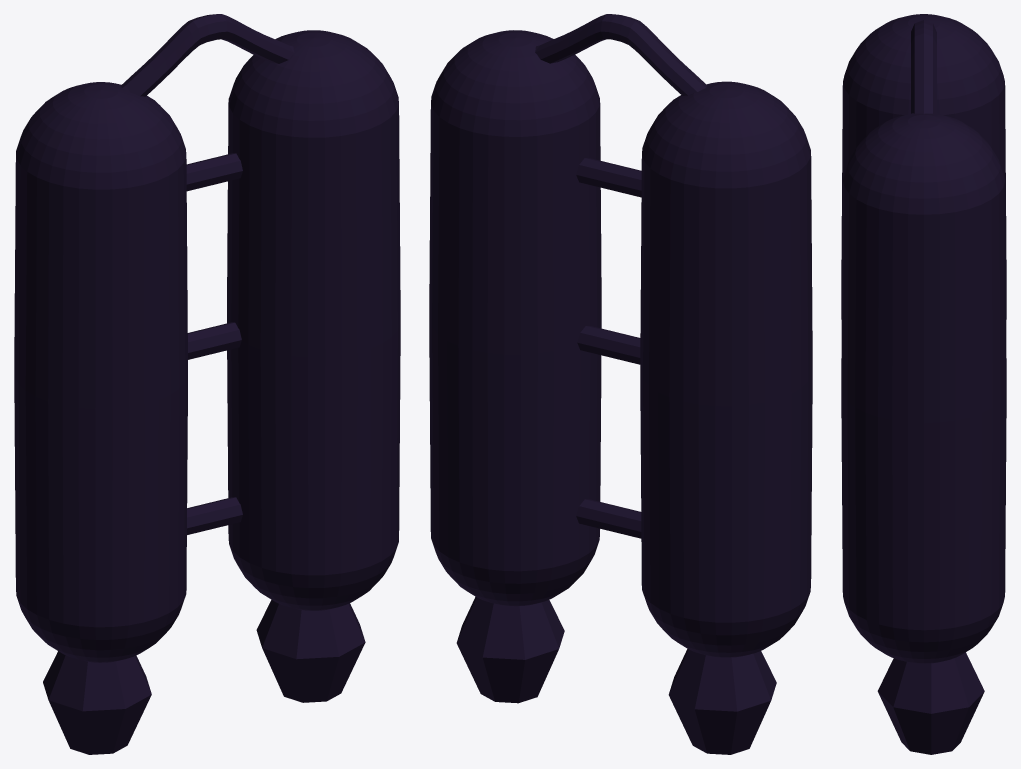
File: Jetpack.fbx
3 renders of one model, left to right at view 1: azimuth 30°, elevation 25°; view 2: azimuth 150°, elevation 25°; view 3: azimuth 270°, elevation 25°, orthographic. The views are drawn at different scales.
Parts seen in each view (by area): view 1: Cube; view 2: Cube; view 3: Cube.
Part boxes in pixels (box(x1,y1,x2,y2)): Cube: box(14, 14, 400, 754); Cube: box(429, 14, 812, 754); Cube: box(841, 14, 1006, 754).
Bounding box in the file's own units: 153 × 283 × 63.6.
